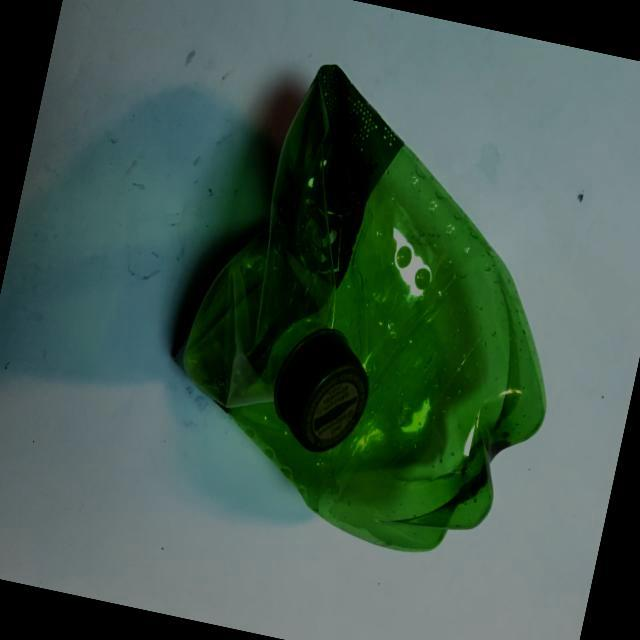plastic: (104, 19, 619, 579)
